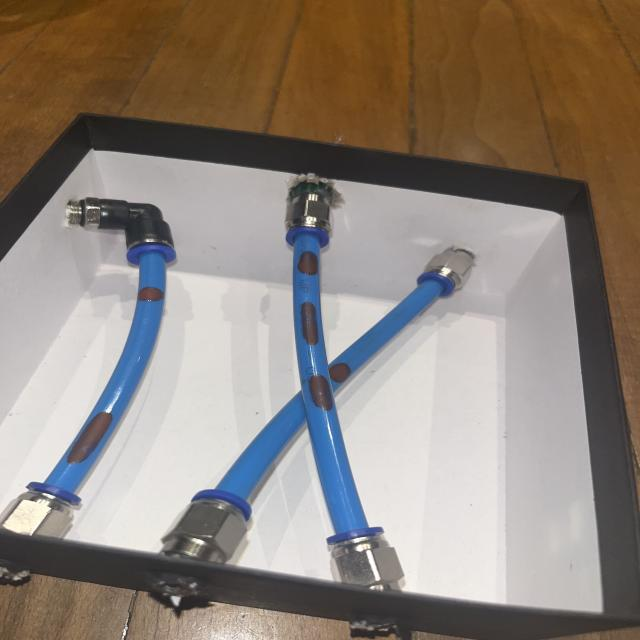hose_damage: (58, 407, 119, 469), (306, 372, 335, 412), (298, 299, 322, 346), (298, 248, 320, 278), (138, 286, 166, 304), (330, 362, 352, 384)
